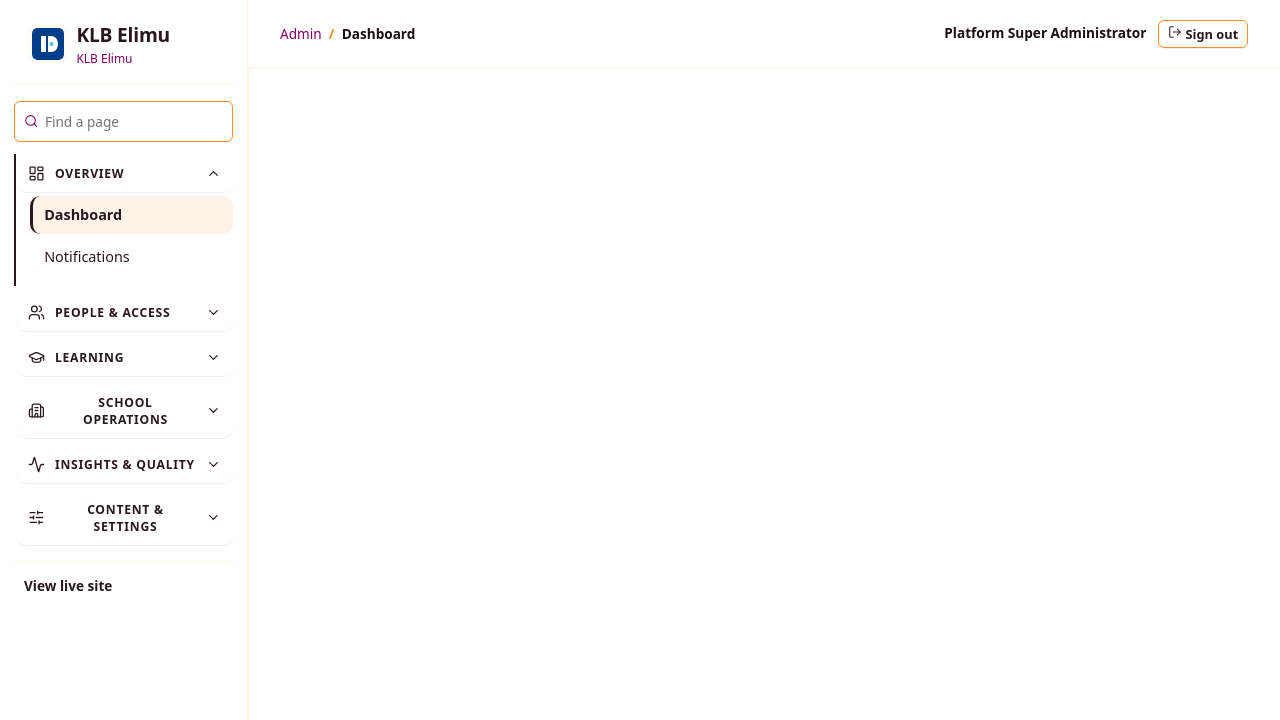
Test case: DashboardLayout capability navigation › shows platform links only to a super admin
The width and height of the screenshot is (1280, 720).
Type "Roles" into the search field named "Find an admin page" at (134,121), box [45,109,223,134]
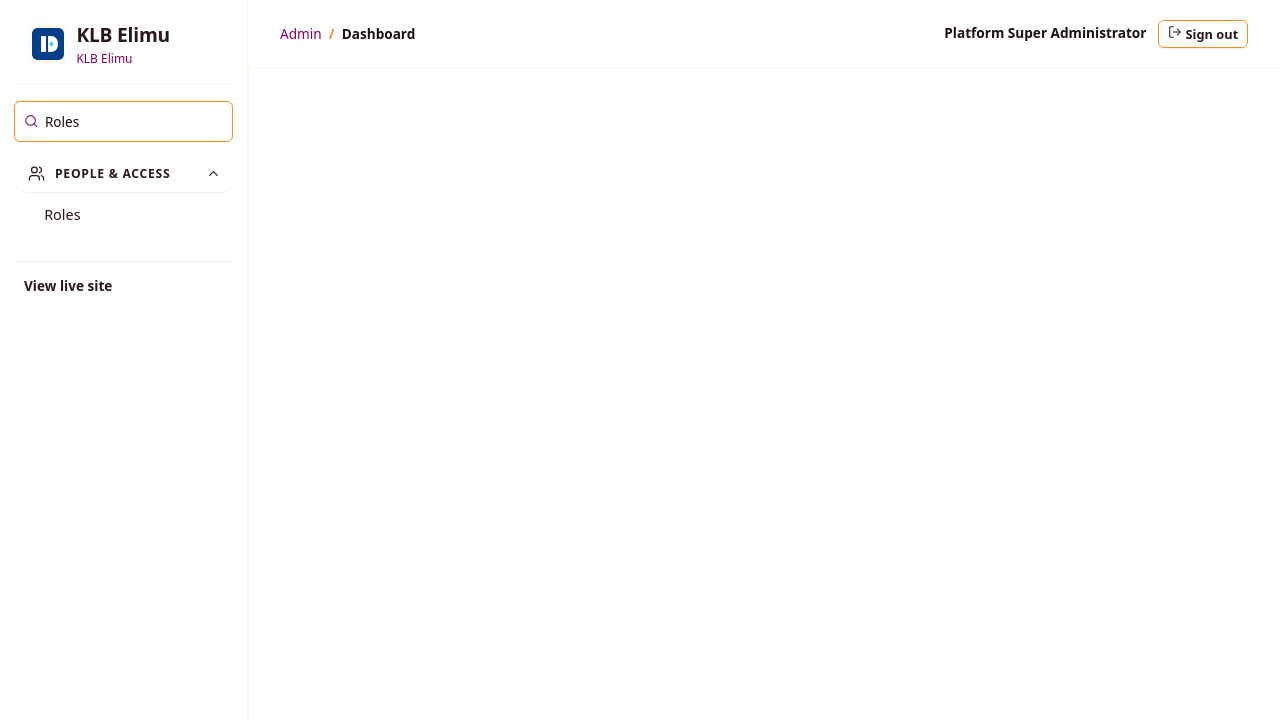
Check: the link "Roles" is shown, box [44,205,81,224]
Replace the text in the search field named "Find an admin page" with "Institutions" at (134,121), box [45,109,223,134]
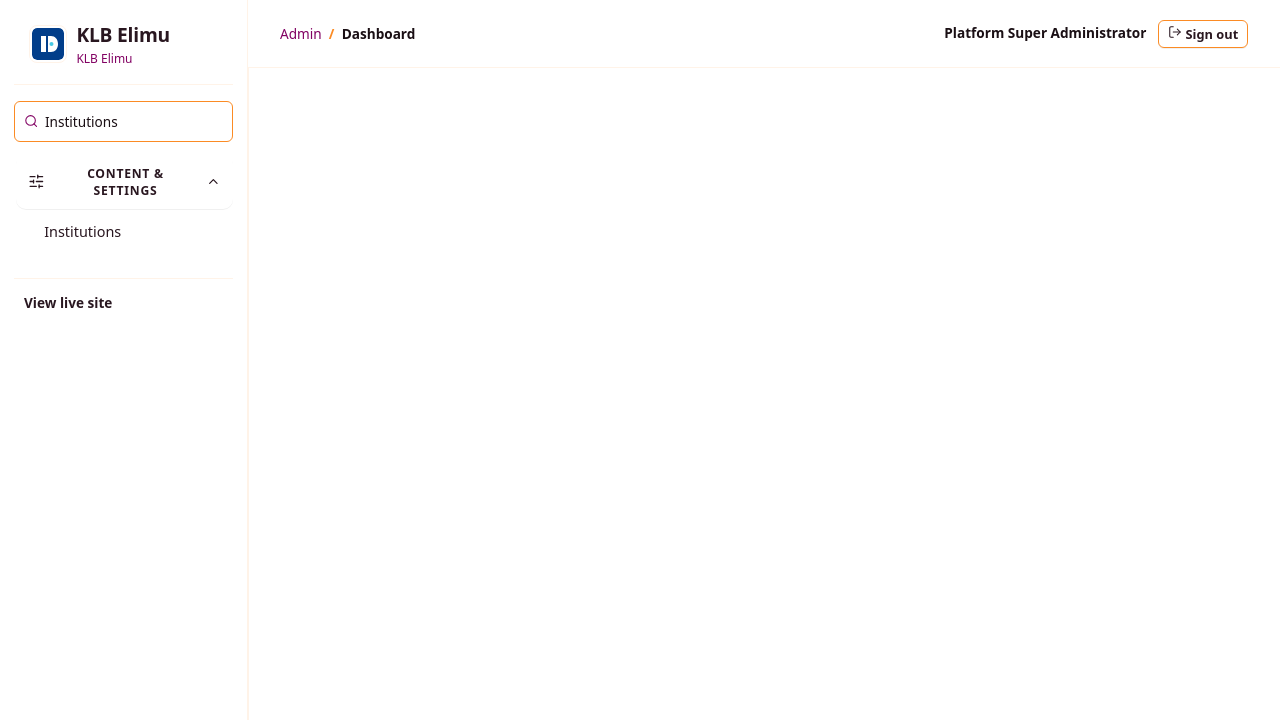
Check: the link "Institutions" is shown, box [44,222,121,241]
